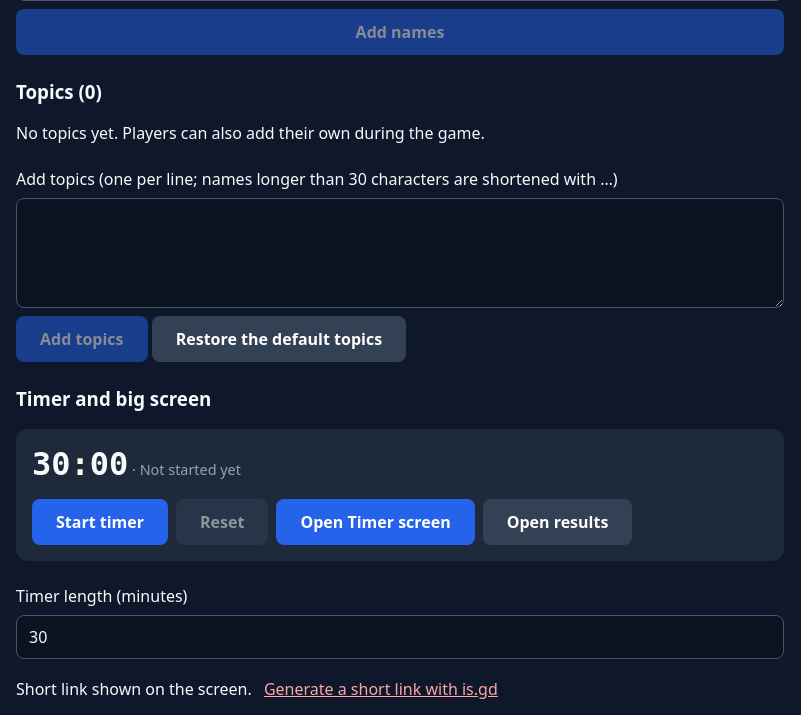
Game page › restores the default topics with one click
(page scrolled)
Expected: the heading "Topics (0)" is shown, [16,79,102,104]
Click the button "Restore the default topics" at (279, 338), box [152,316,406,362]
(page scrolled)
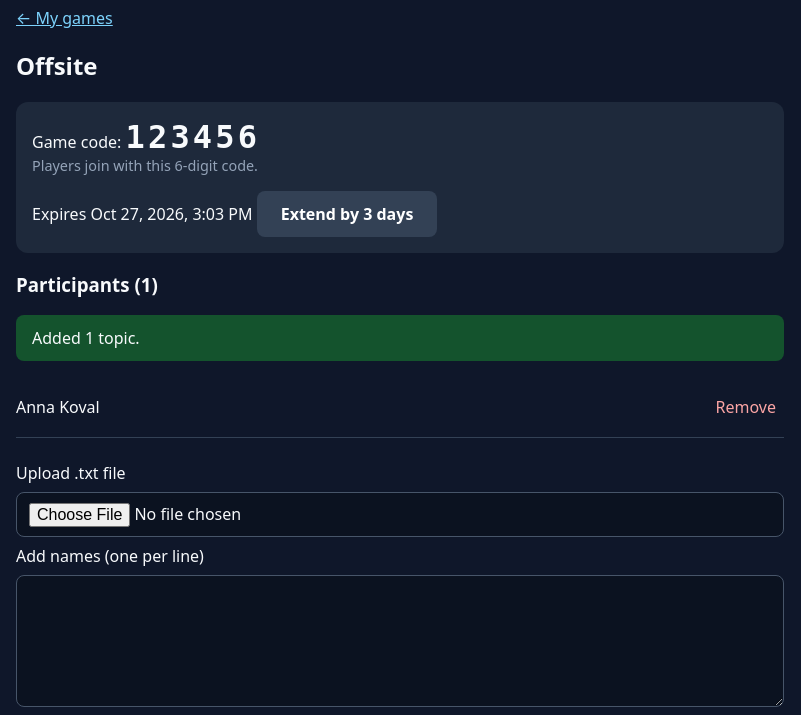
Result: the text "Added 1 topic." is shown at [16,315,784,361]
